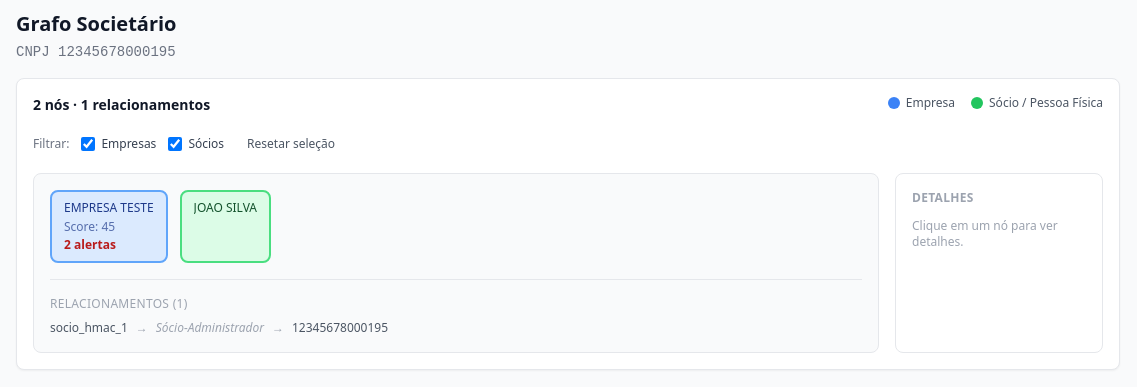
Test case: GrafoSocietario › filters nodes by type via controls
This screenshot has width=1137, height=387.
Expected: the text "EMPRESA TESTE" is shown, [64,200,154,215]
Expected: the checkbox labelled "Empresas" is shown, [81,137,95,151]
Note: Unchecking Sócios hides JOAO SILVA from the canvas.
Click the checkbox labelled "Sócios" at (175, 144), box [168,137,182,151]
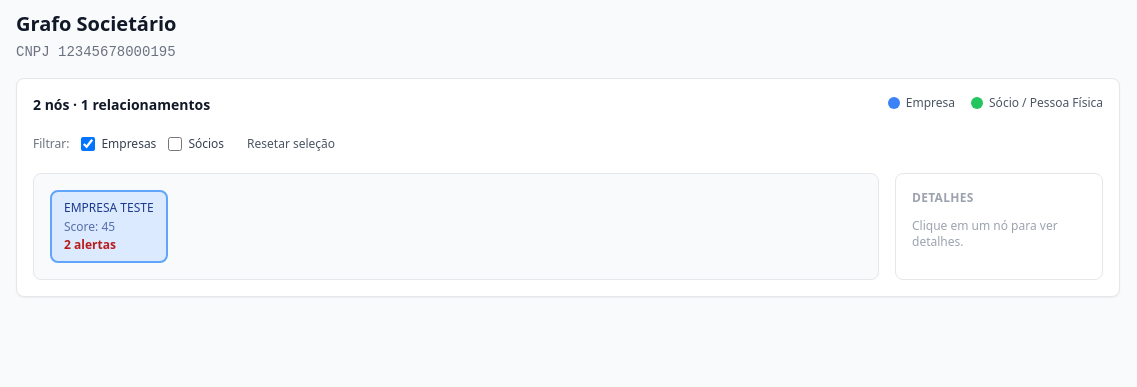
Expected: the text "EMPRESA TESTE" is shown, [64,200,154,215]
Result: the button "JOAO SILVA" is gone
